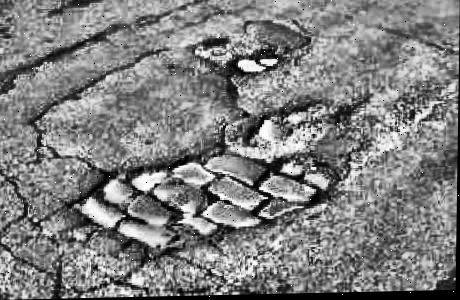pothole: (67, 148, 342, 258), (240, 100, 336, 158), (232, 49, 281, 76)
